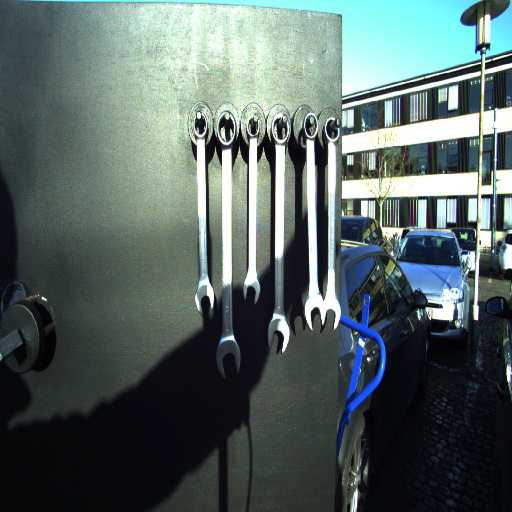bottom: (214, 338, 246, 379), (266, 316, 291, 355), (302, 296, 324, 334), (324, 292, 342, 335), (193, 284, 217, 313), (241, 276, 264, 304)
top: (215, 108, 237, 149), (269, 112, 292, 146), (321, 113, 343, 145), (300, 109, 320, 142), (188, 113, 212, 140), (242, 114, 261, 138)
